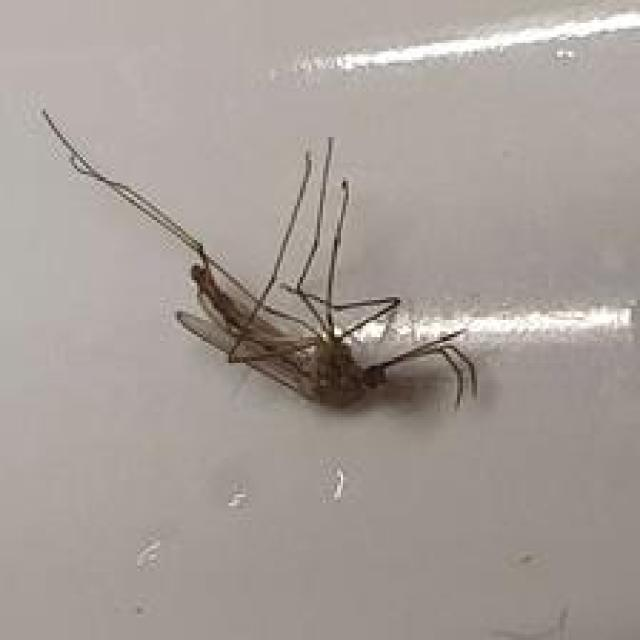Culex: (40, 107, 480, 413)
